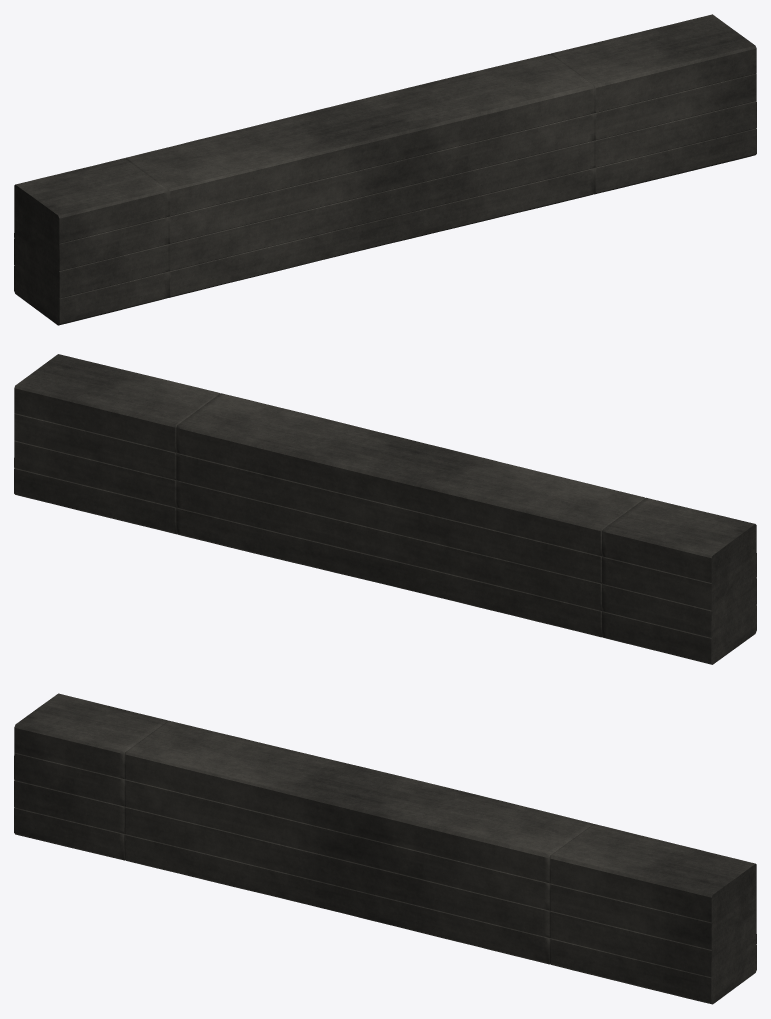
The model's file is exposed_beam.glb.
3 renders of one model, top to bottom at view 1: azimuth 30°, elevation 25°; view 2: azimuth 150°, elevation 25°; view 3: azimuth 330°, elevation 25°, orthographic.
Parts seen in each view (by area): view 1: exposed_beam; view 2: exposed_beam; view 3: exposed_beam.
Boxes of the visible parts, x1=… form: exposed_beam: x1=14, y1=14, x2=756, y2=325; exposed_beam: x1=14, y1=354, x2=756, y2=664; exposed_beam: x1=14, y1=693, x2=756, y2=1004.
Bounding box in the file's own units: 4 × 0.6061 × 0.4571.
1 material, 1 textured.
